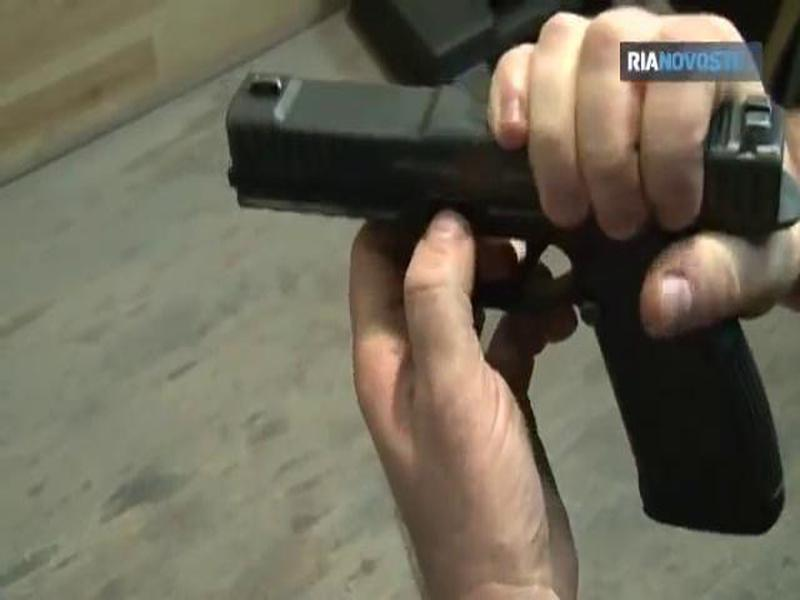Pistola: (206, 44, 786, 532)
